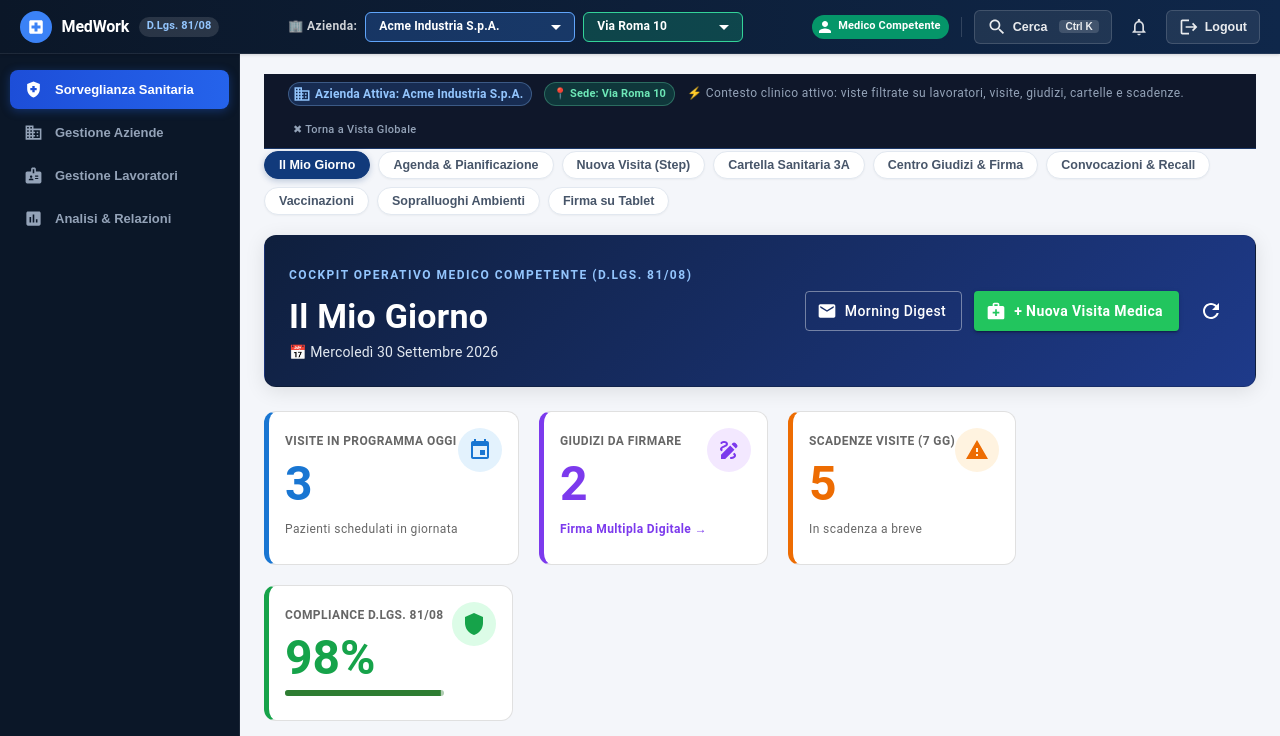
Scenario: App shell and navigation › displays persistent clinical context banner and allows reset to global view
Expected: the text "Azienda Attiva: Acme Industria S.p.A." is shown, [307,85,531,103]
Expected: the text "📍 Sede: Via Roma 10" is shown, [545,86,674,102]
Note: Click reset to global view
Click the button "✖ Torna a Vista Globale". click: click(355, 129)
box: [288,118,422,140]
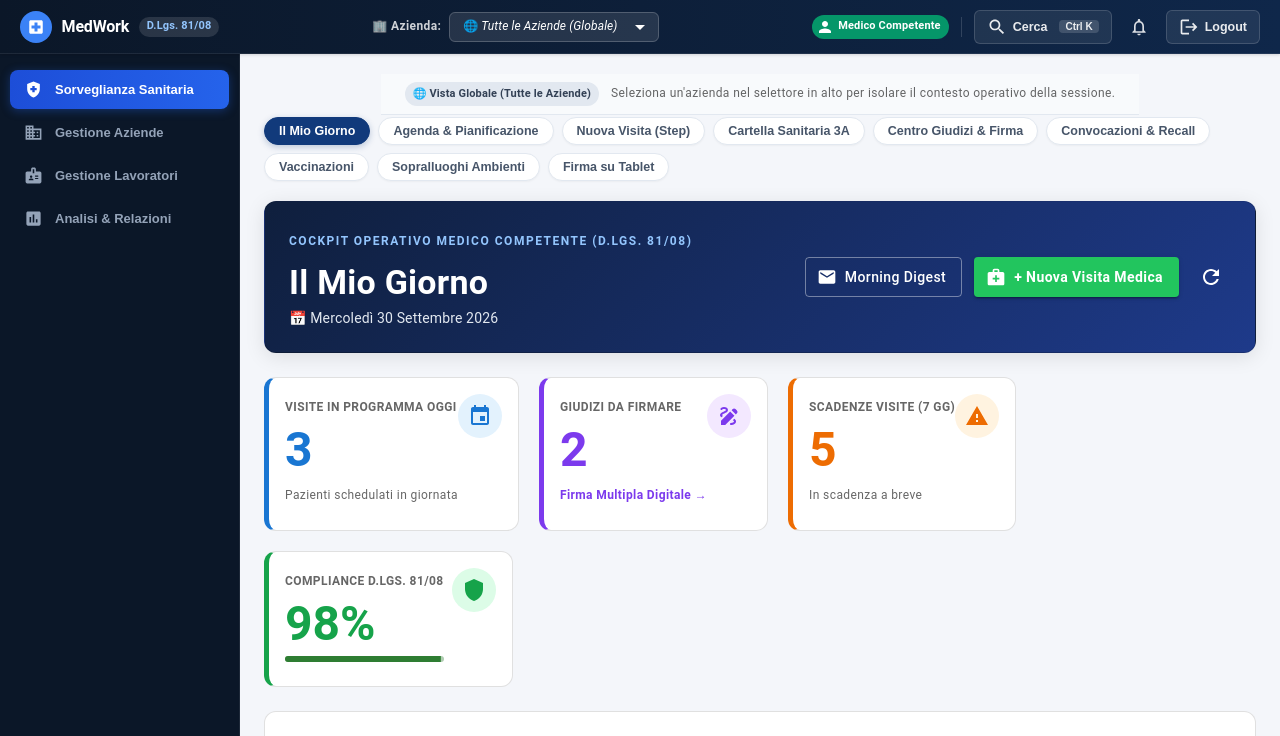
Result: the text "🌐 Vista Globale (Tutte le Aziende)" is shown at [405,86,599,102]
